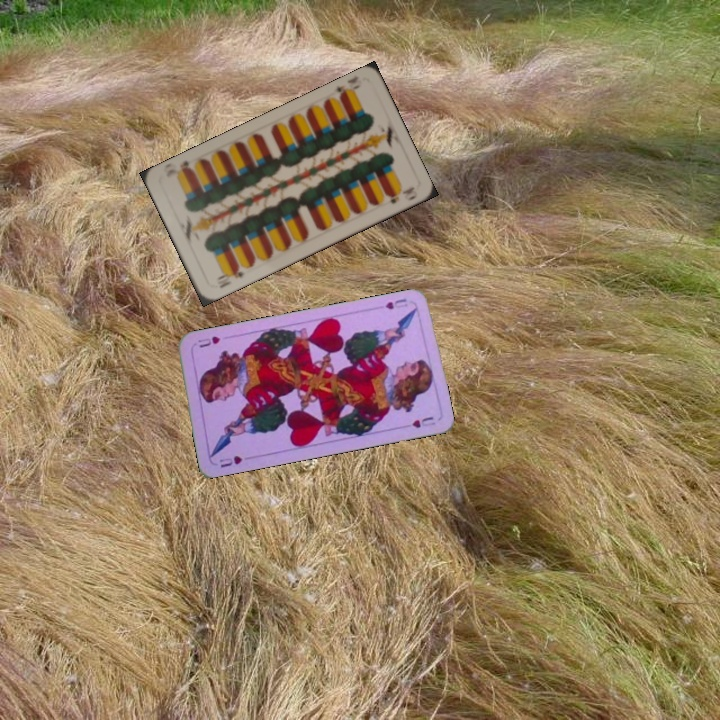E10: (327, 74, 363, 102), (213, 263, 248, 291)
HU: (215, 451, 245, 470), (381, 294, 410, 312)
